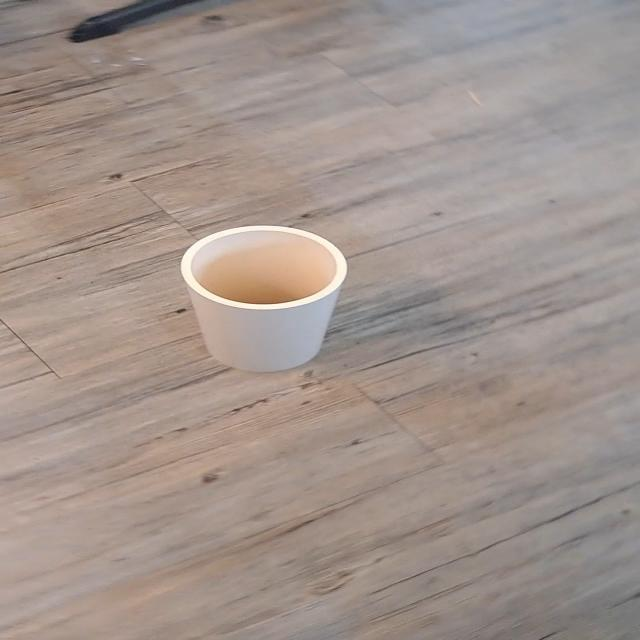CORAL: (172, 220, 352, 377)
